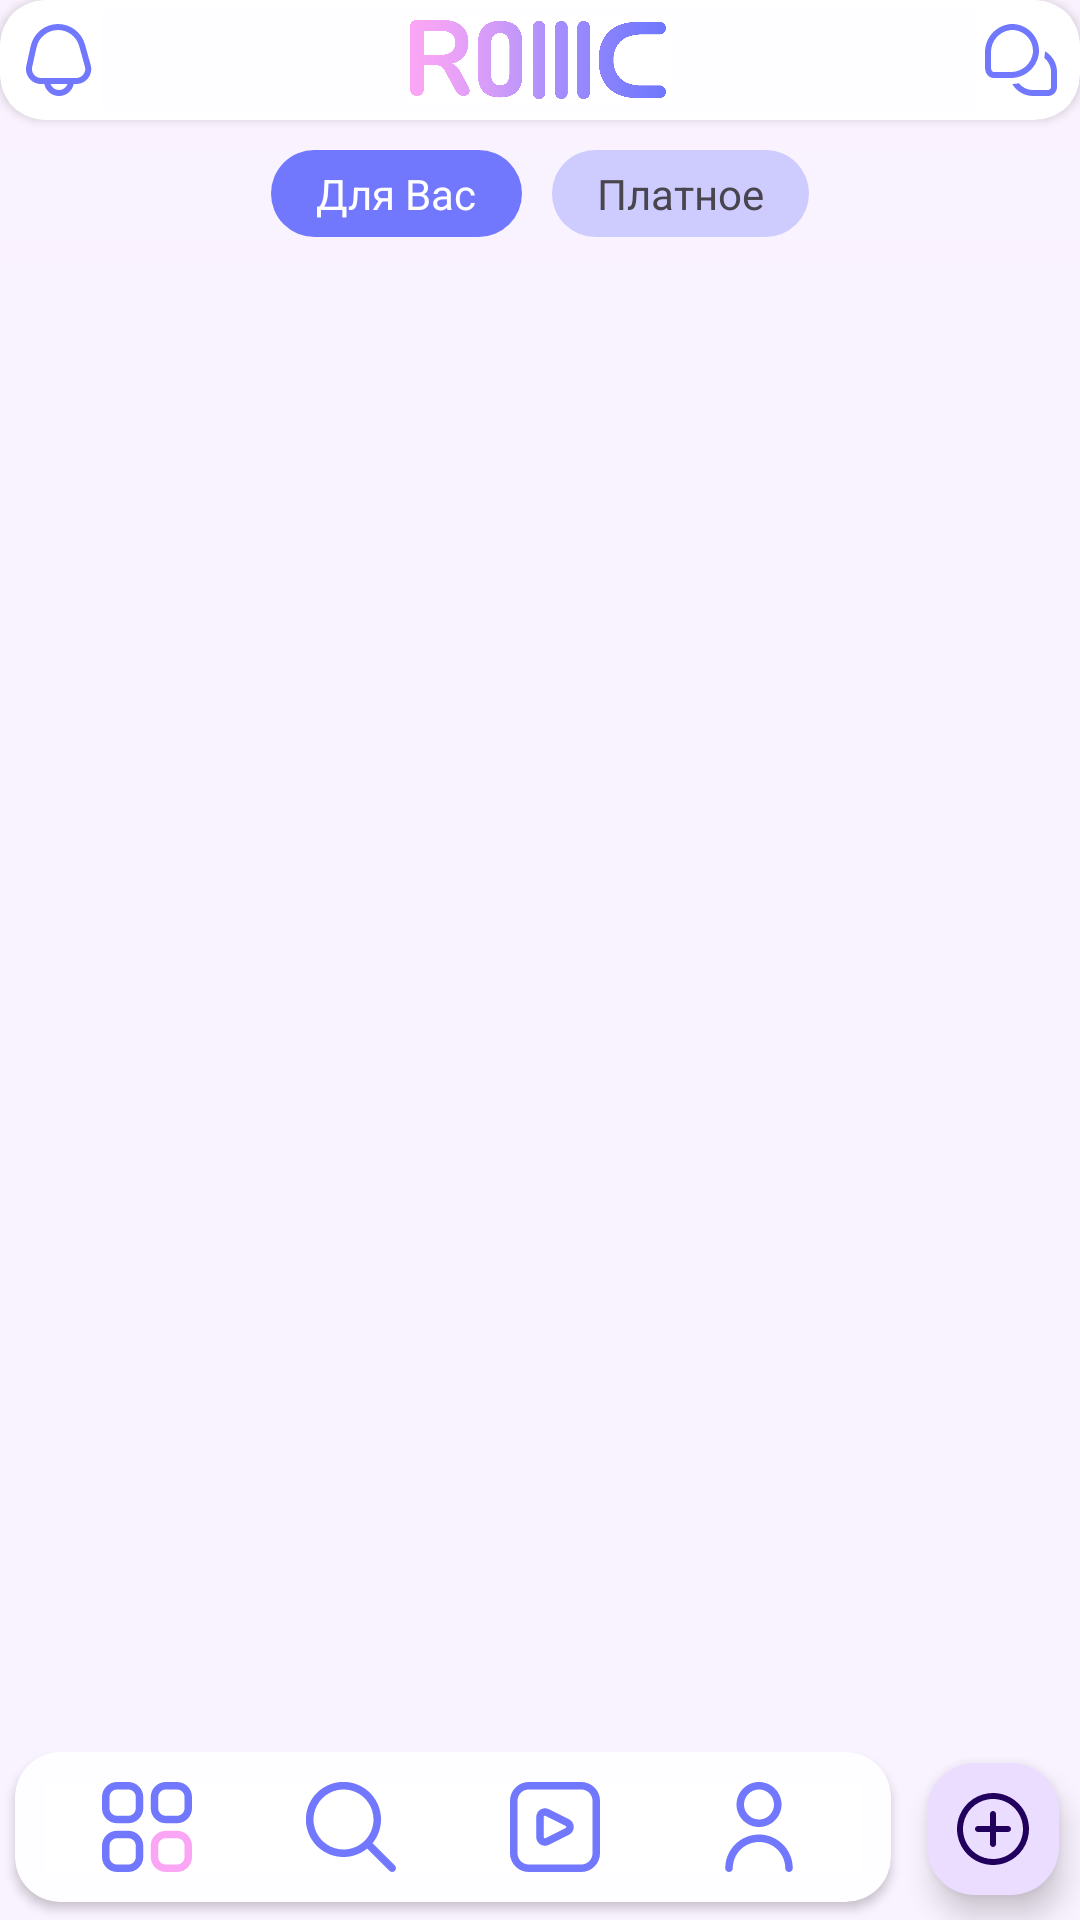

Named icons in this screenshot (1080w x 1920h) and their bounding boxes, (x1, y1, x2, y2):
Account: (725, 1782, 793, 1872)
Add post: (922, 1762, 1065, 1901)
Home screen: (102, 1782, 192, 1872)
Messages: (985, 24, 1057, 96)
Notifications: (26, 24, 92, 96)
Search screen: (306, 1782, 396, 1872)
Videos feed: (510, 1782, 600, 1872)
